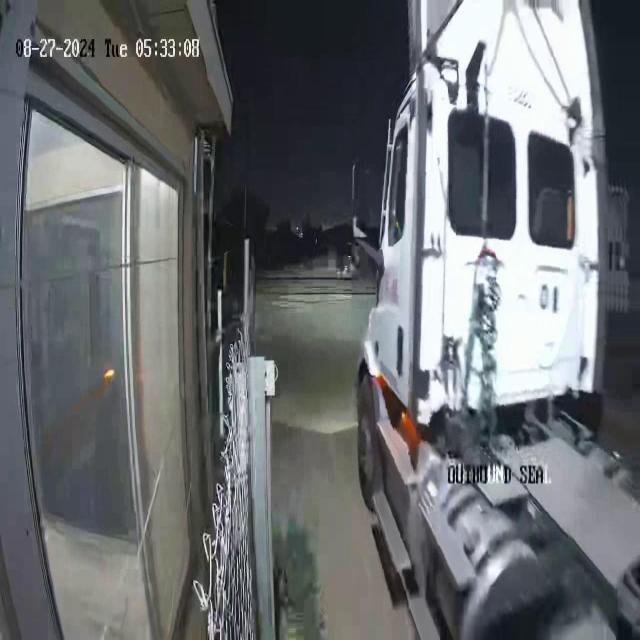TRUCK_OUT: (351, 3, 636, 640)
